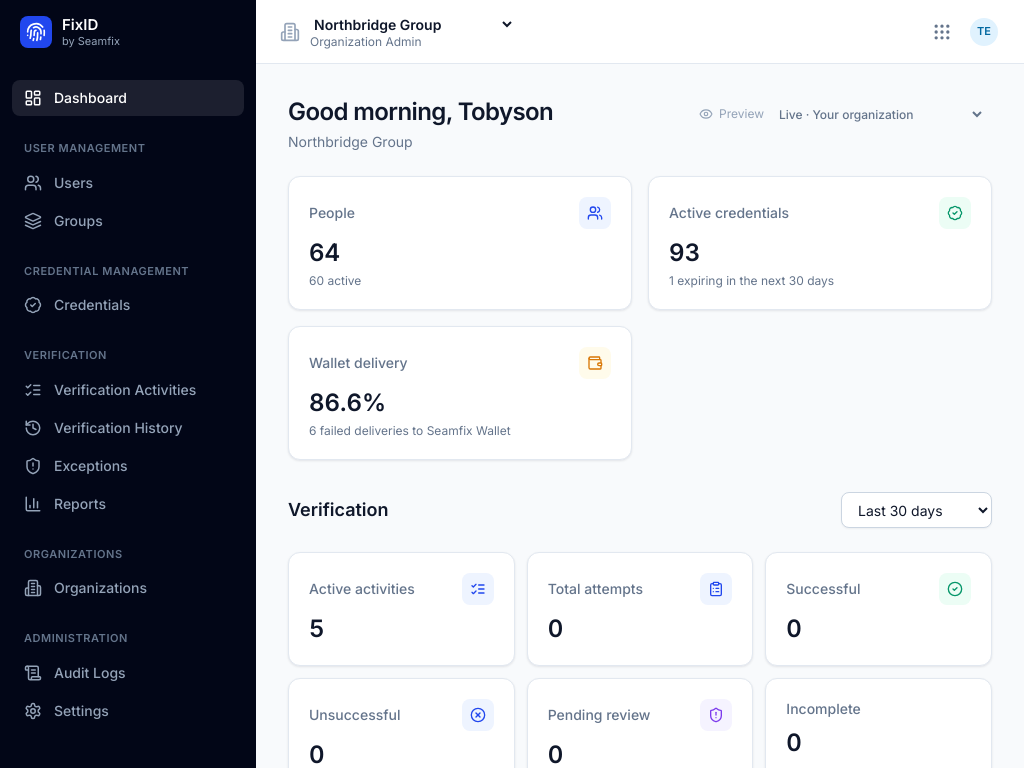
Scenario: Role Preview › previews a restricted role from the account menu and exits back to full access
Click the button "TE".
click(984, 32)  # box [968, 16, 1000, 48]
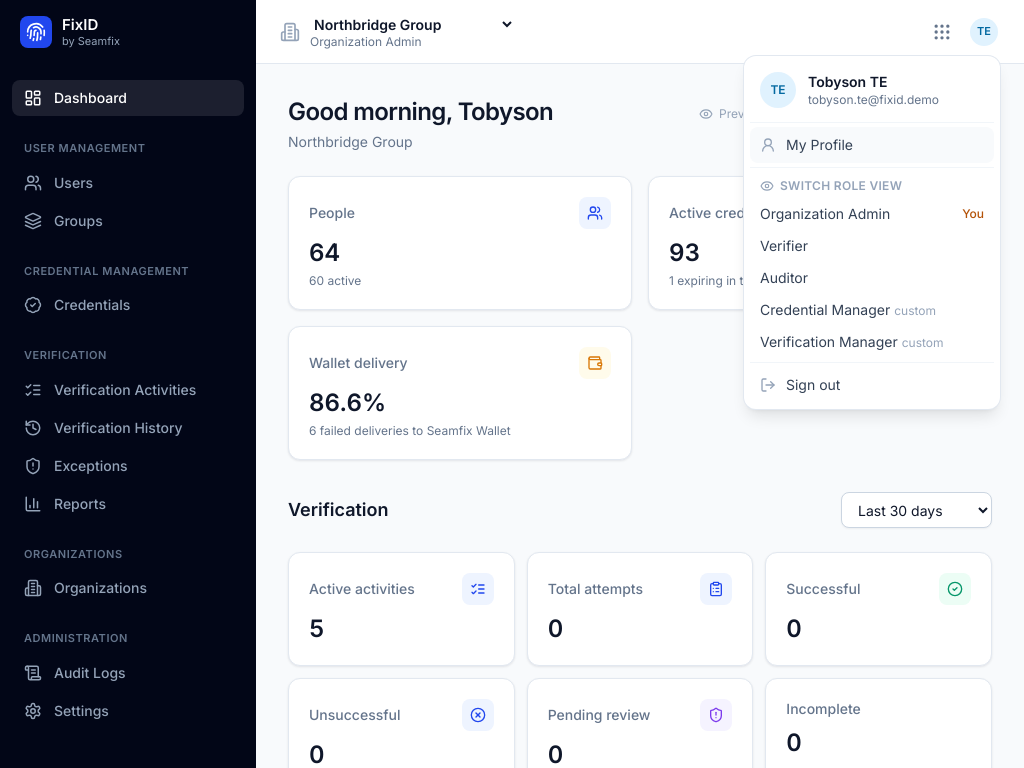
Click the menu item "Credential Manager".
click(872, 310)  # box [750, 294, 994, 326]
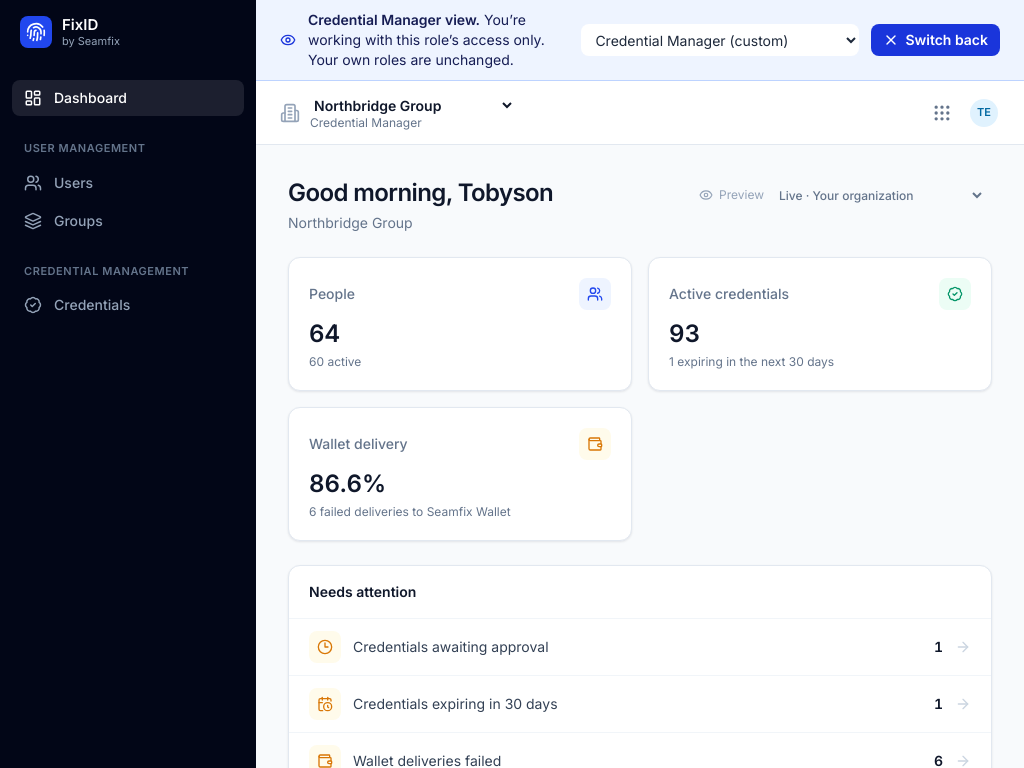
expect the link "Credentials" is shown: met, box [24, 296, 130, 314]
expect the element named "Role view" shows "Credential Manager view": met, box [256, 0, 1023, 81]
expect the link "Audit Log" is gone: met
Select "Verifier" in the dropdown named "Role view" at (720, 40), box [581, 24, 859, 56]
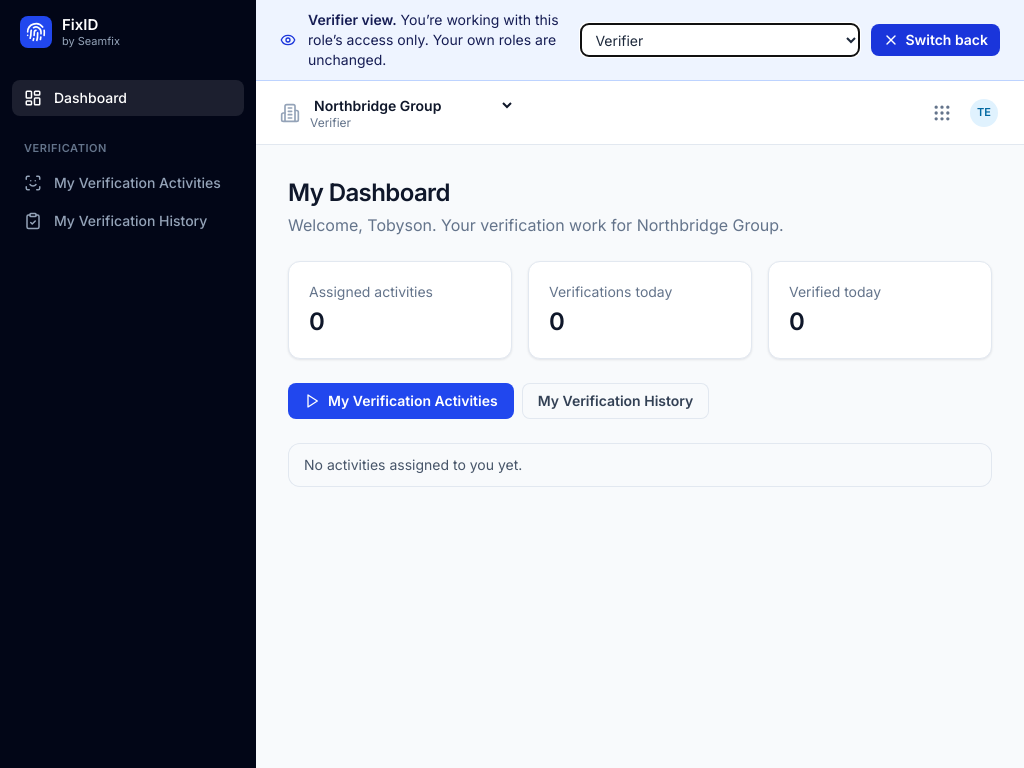
expect the heading "My Dashboard" is shown: met, box [288, 178, 450, 207]
expect the links read "Dashboard", "My Verification Activities", "My Verification History", in this order: met, box [12, 80, 244, 116]; [24, 174, 221, 192]; [24, 212, 207, 230]
Click the button "Switch back".
click(936, 40)  # box [871, 24, 1000, 56]
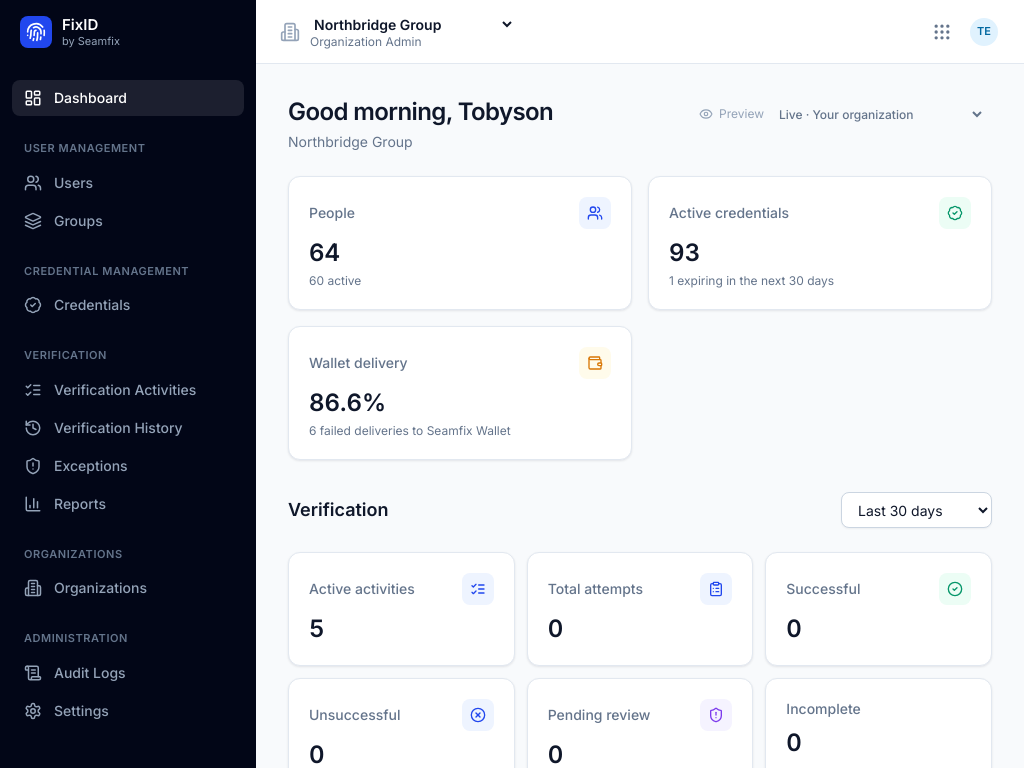
expect the element "role view" is not shown: met
expect the link "Audit Logs" is shown: met, box [24, 664, 126, 682]
